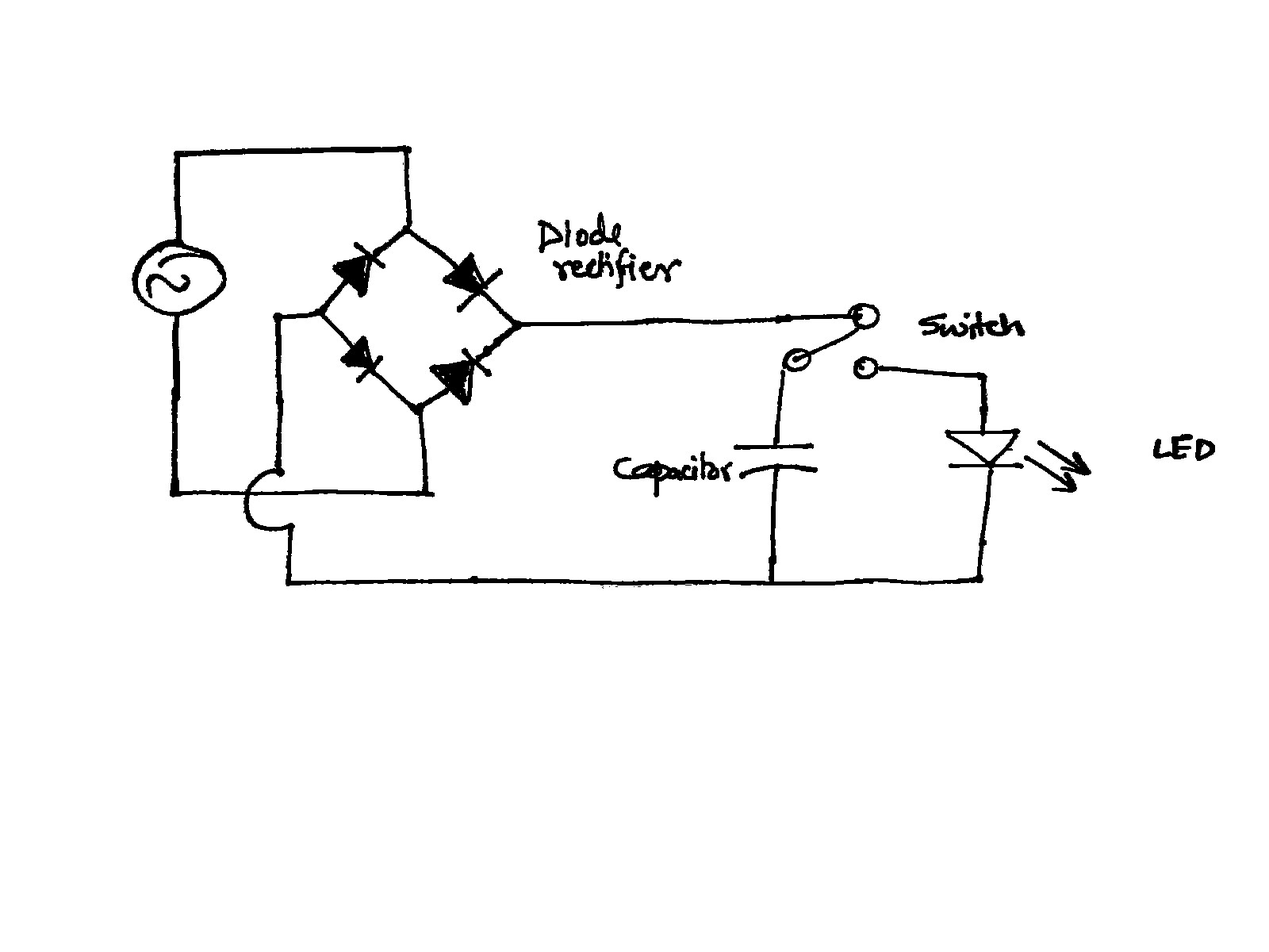capacitor.unpolarized: (734, 437, 815, 479)
crossover: (242, 465, 298, 536)
diode: (428, 347, 492, 405), (443, 252, 500, 311), (331, 243, 383, 296), (339, 335, 381, 382)
diode.light_emitting: (945, 426, 1089, 492)
junction: (412, 479, 437, 501), (396, 142, 420, 161), (281, 574, 303, 593), (267, 309, 289, 328), (164, 484, 185, 503), (761, 572, 782, 590), (970, 570, 989, 589), (973, 369, 993, 386), (171, 148, 190, 164), (408, 401, 427, 417), (399, 222, 416, 238), (508, 318, 523, 333), (314, 305, 328, 320)
switch: (776, 300, 884, 381)
text: (535, 210, 684, 290), (612, 451, 735, 499), (918, 308, 1026, 341), (1148, 432, 1216, 461)
voltage.ac: (129, 238, 230, 321)
